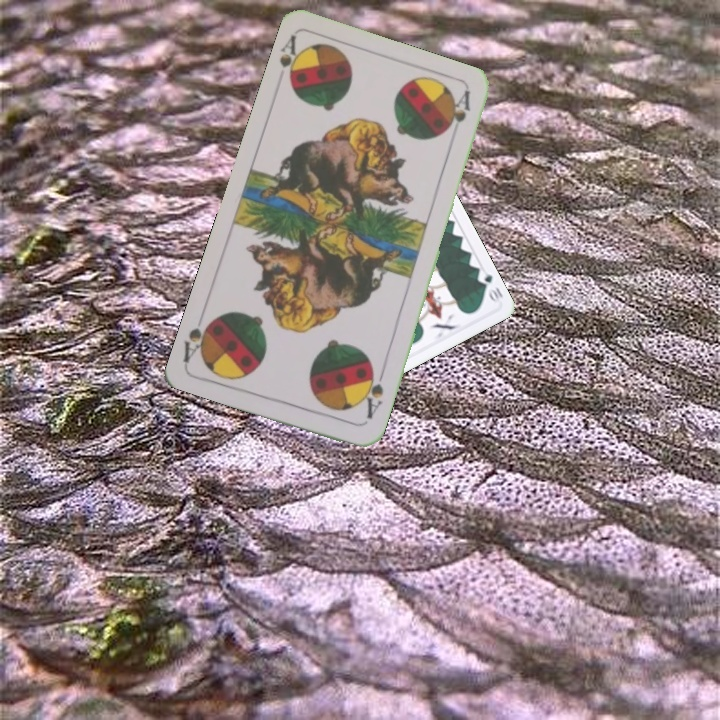G10: (473, 266, 505, 306)
SA: (275, 31, 308, 93), (356, 365, 387, 422)
